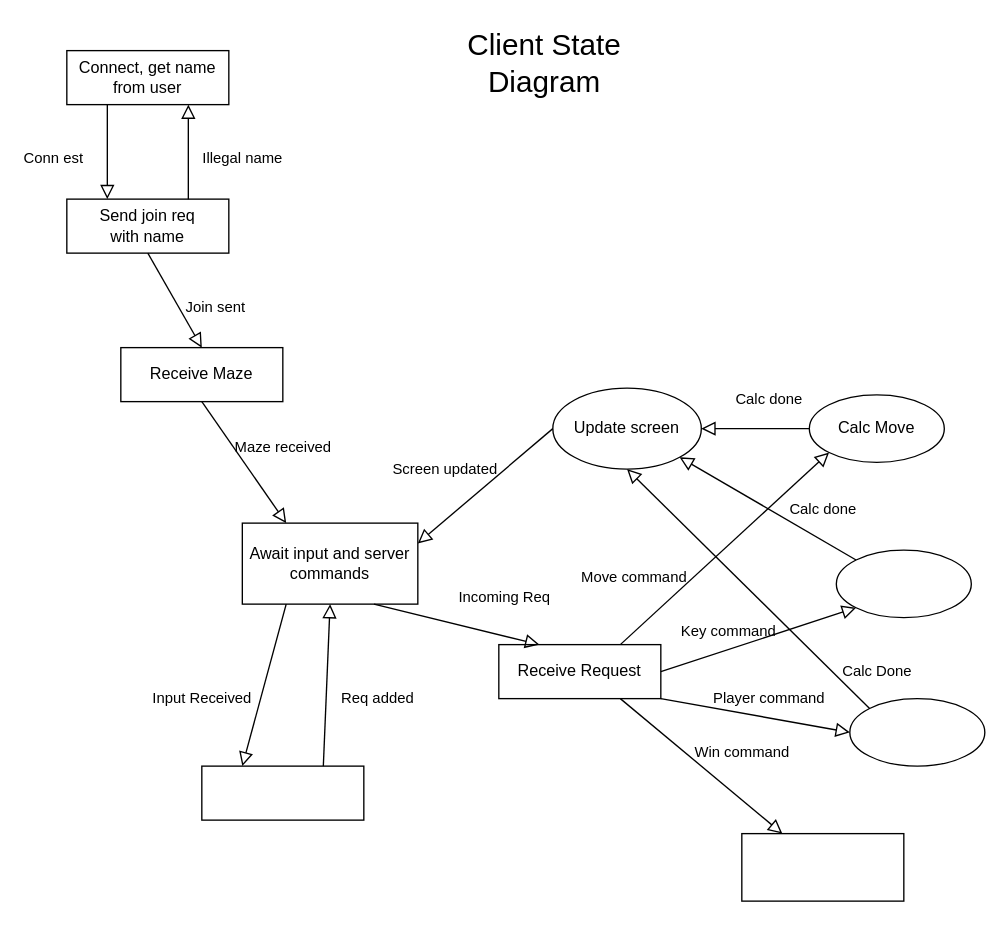
The diagram is 1008 pixels wide and 925 high, and some of its shapes have lost their labels. The shapes that lost their labels are listed below. From the top down, each one's centre as x and y in pixels, then its label:
At point (903, 583): "Add (or remove) key".
At point (916, 731): "Add player".
At point (282, 792): "Send request".
At point (822, 866): "End game".
